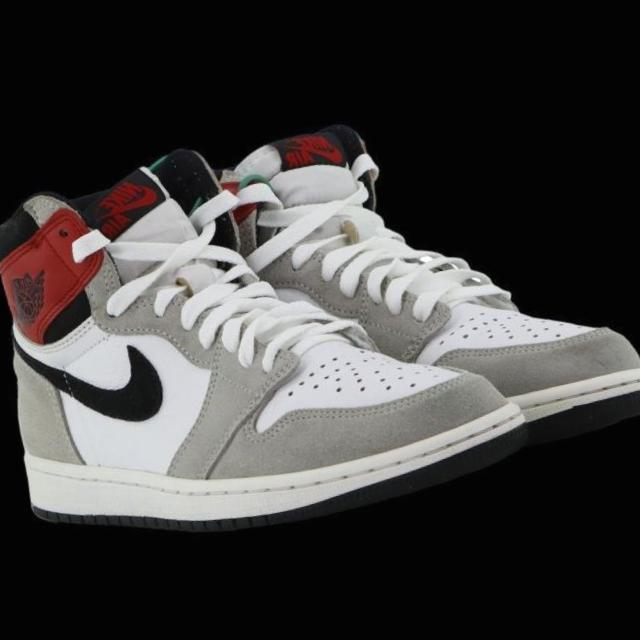nike_original_jordan: (0, 94, 537, 573), (206, 67, 640, 490)
